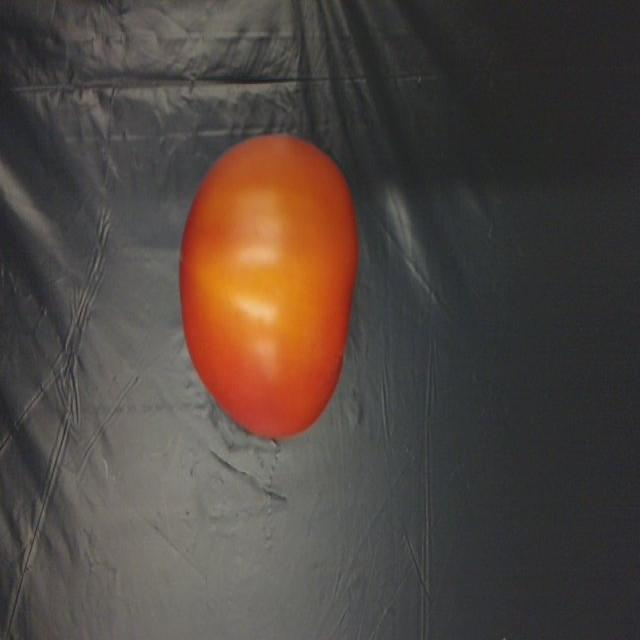sari: (150, 135, 371, 400)
